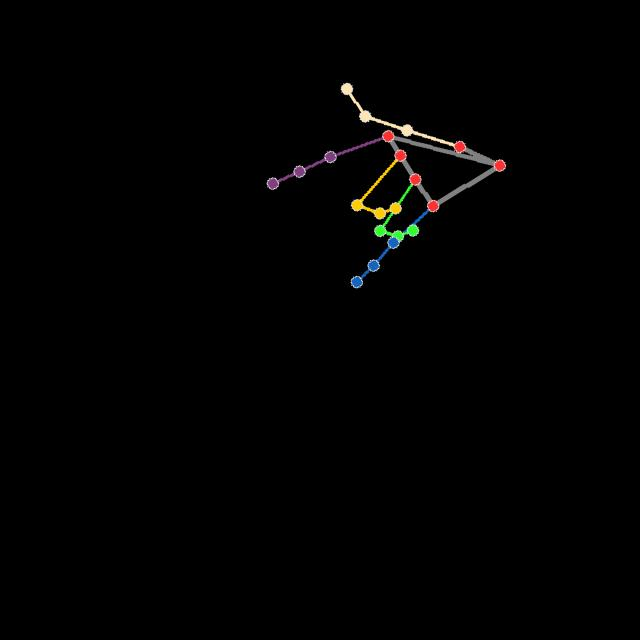spiderman: (263, 82, 507, 290)
